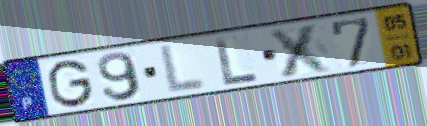7: (328, 14, 373, 69)
9: (95, 50, 144, 103)
G: (47, 57, 97, 110)
L: (158, 42, 209, 96), (212, 35, 261, 88)
X: (266, 20, 337, 80)
